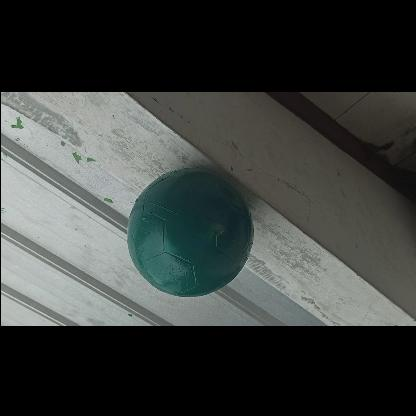green_ball: (126, 169, 252, 295)
